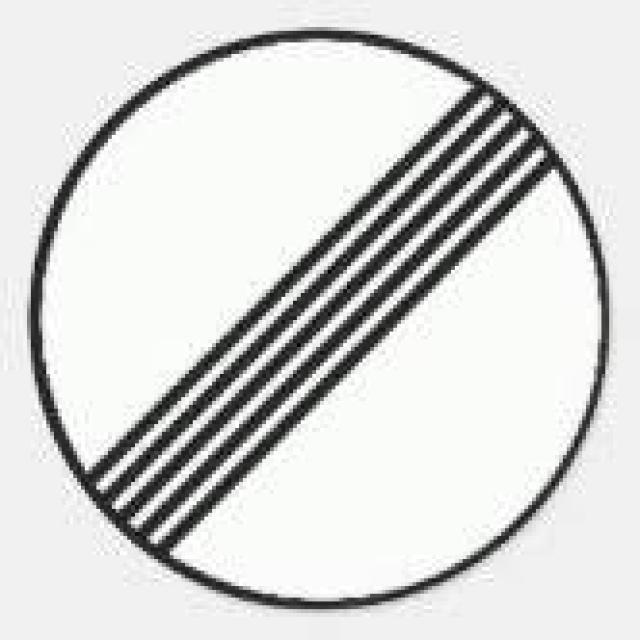restriction ends: (31, 30, 610, 607)
